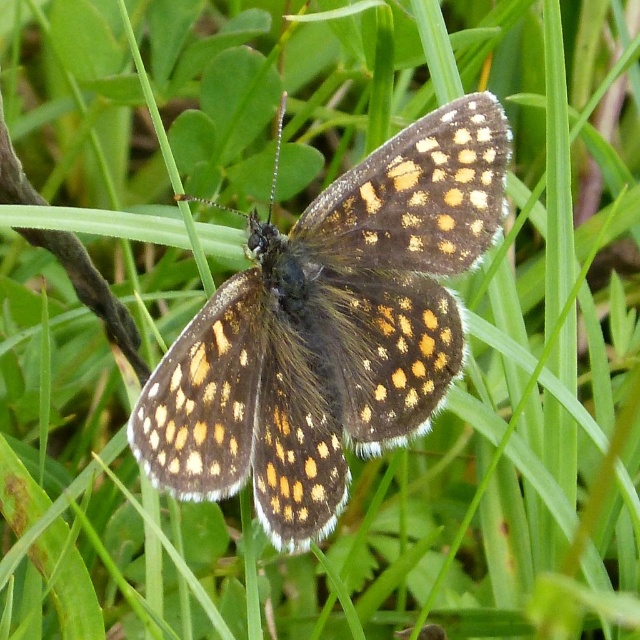Butterfly: (123, 89, 483, 568)
